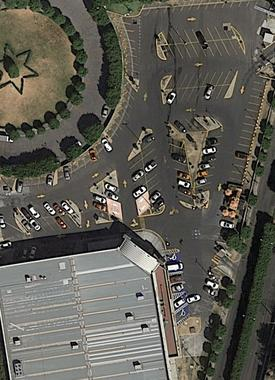parkingspot: (227, 75, 269, 188), (56, 136, 114, 186), (106, 10, 140, 81), (139, 132, 166, 214), (104, 81, 139, 144), (193, 126, 224, 196), (159, 38, 246, 62), (168, 135, 196, 207), (138, 0, 258, 15), (160, 25, 238, 46), (163, 70, 238, 90), (164, 84, 232, 105), (18, 214, 81, 236), (16, 200, 77, 222), (127, 150, 149, 202), (197, 270, 223, 313), (164, 251, 188, 296), (15, 174, 54, 194), (168, 117, 209, 134), (172, 292, 191, 325), (90, 191, 110, 222), (104, 180, 121, 204), (0, 176, 16, 194)
